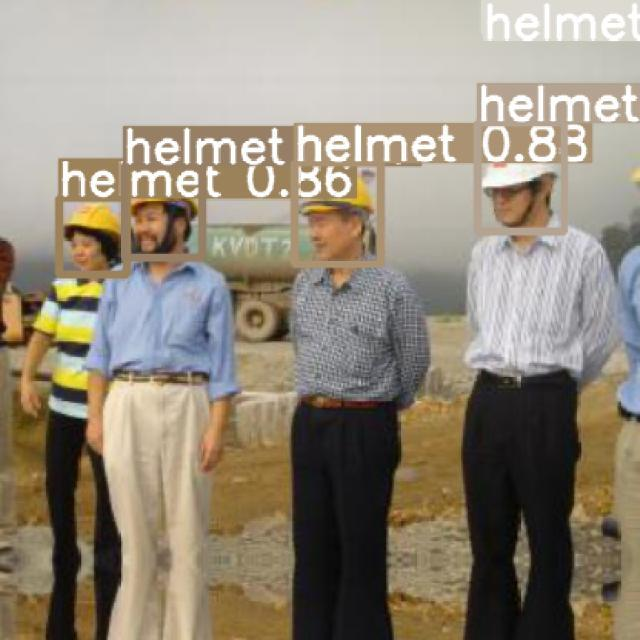Helmet: (298, 176, 374, 215), (481, 160, 556, 194)
